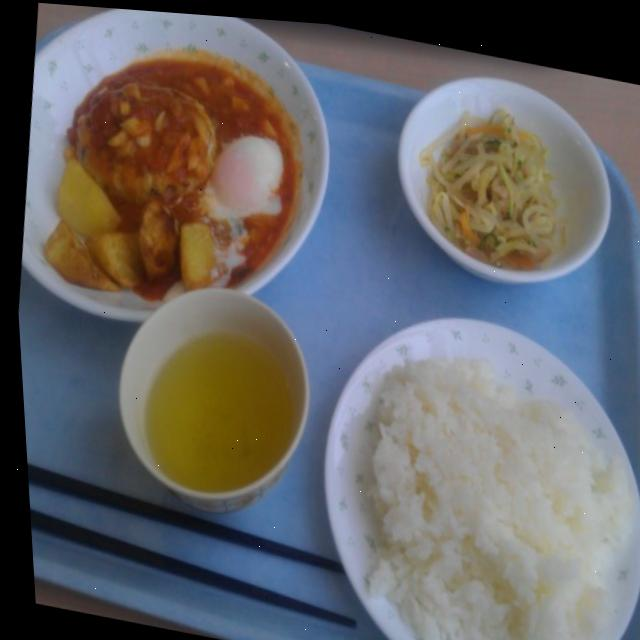米饭主食: (255, 260, 640, 640)
